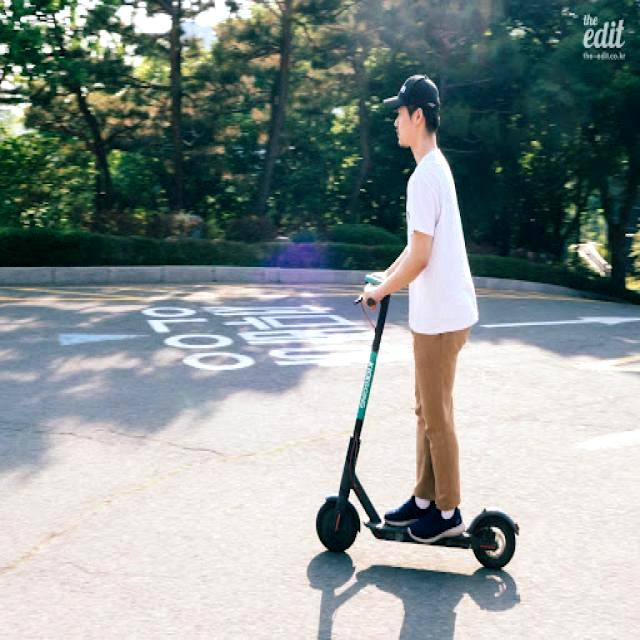bare_head: (374, 70, 450, 157)
human: (364, 73, 473, 538)
kickboard: (287, 462, 533, 582)
